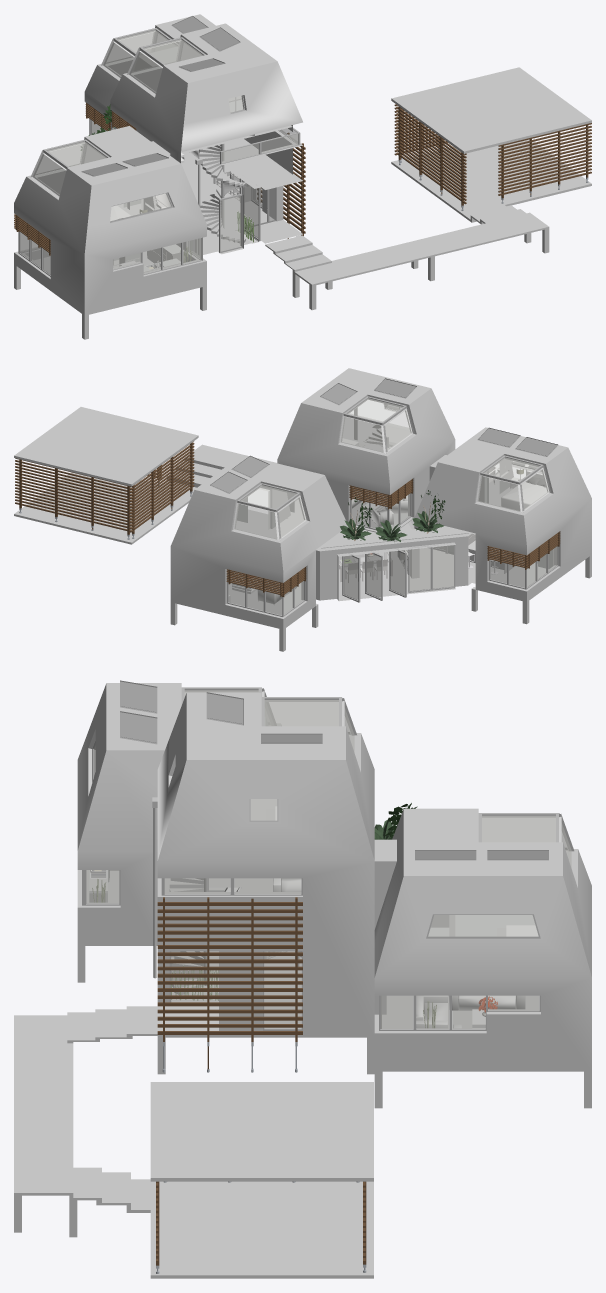
The model's file is Lunars Fancy House by Ryan “Lunar” Fowler-Hughes - 4BMcHXyZr-F.glb.
3 renders of one model, top to bottom at view 1: azimuth 30°, elevation 25°; view 2: azimuth 150°, elevation 25°; view 3: azimuth 270°, elevation 25°, orthographic. The views are drawn at different scales.
Visible parts, largest first — view 1: Mesh1721 Model, Mesh1709 Component_12_1 Model, Mesh1708 Component_11_3 Model, Mesh1425 Component_11_1 Model, Mesh134 Component_5_1 Model, Mesh1526 Component_5_3 Model, Mesh602 Component_5_2 Model, Mesh64 Group44 Model, Mesh1448 Component_9_1 Model, Mesh132 Spiral_Stair1 Component_7_1 Model, Mesh1428 Component_8_1 Model, Mesh133 Spiral_Stair2 Component_7_1 Model (+9 smaller); view 2: Mesh1721 Model, Mesh1709 Component_12_1 Model, Mesh1427 Component_11_2 Model, Mesh134 Component_5_1 Model, Mesh1526 Component_5_3 Model, Mesh602 Component_5_2 Model, Mesh1425 Component_11_1 Model, Mesh77 Group57 Model, Mesh21 Group15 Model, Mesh72 Group52 Model, Mesh927 King_size_bed1 Model, Mesh17 Group11 Model (+19 smaller); view 3: Mesh1721 Model, Mesh1709 Component_12_1 Model, Mesh1448 Component_9_1 Model, Mesh602 Component_5_2 Model, Mesh1526 Component_5_3 Model, Mesh1525 Component_8_2 Model, Mesh6 Group6 Model, Mesh66 Group46 Model, Mesh75 Group55 Model, Mesh3 Group3 Model, Mesh28 Group22 Model, Mesh68 Group48 Model (+6 smaller).
Part boxes in pixels (box(x1,y1,x2,y2)): Mesh1721 Model: box(14, 14, 591, 315); Mesh1709 Component_12_1 Model: box(391, 67, 591, 153); Mesh1708 Component_11_3 Model: box(498, 123, 591, 203); Mesh1425 Component_11_1 Model: box(396, 106, 466, 210); Mesh134 Component_5_1 Model: box(30, 139, 109, 196); Mesh1526 Component_5_3 Model: box(127, 37, 205, 93); Mesh602 Component_5_2 Model: box(101, 28, 178, 77); Mesh64 Group44 Model: box(219, 193, 242, 252); Mesh1448 Component_9_1 Model: box(257, 132, 305, 238); Mesh132 Spiral_Stair1 Component_7_1 Model: box(200, 182, 246, 243); Mesh1428 Component_8_1 Model: box(110, 192, 173, 222); Mesh133 Spiral_Stair2 Component_7_1 Model: box(199, 144, 245, 187); Mesh1721 Model: box(14, 368, 591, 629); Mesh1709 Component_12_1 Model: box(14, 407, 198, 486); Mesh1427 Component_11_2 Model: box(15, 458, 134, 539); Mesh134 Component_5_1 Model: box(476, 455, 551, 513); Mesh1526 Component_5_3 Model: box(339, 396, 414, 453); Mesh602 Component_5_2 Model: box(233, 483, 308, 540); Mesh1425 Component_11_1 Model: box(129, 441, 194, 538); Mesh77 Group57 Model: box(408, 545, 431, 592); Mesh21 Group15 Model: box(432, 543, 455, 590); Mesh72 Group52 Model: box(342, 553, 360, 602); Mesh927 King_size_bed1 Model: box(501, 471, 547, 510); Mesh17 Group11 Model: box(365, 551, 382, 600); Mesh1721 Model: box(14, 683, 591, 1278); Mesh1709 Component_12_1 Model: box(150, 1082, 373, 1181); Mesh1448 Component_9_1 Model: box(157, 897, 302, 1072); Mesh602 Component_5_2 Model: box(478, 813, 574, 867); Mesh1526 Component_5_3 Model: box(261, 697, 356, 752); Mesh1525 Component_8_2 Model: box(426, 914, 540, 938); Mesh6 Group6 Model: box(263, 951, 302, 1030); Mesh66 Group46 Model: box(169, 951, 218, 1002); Mesh75 Group55 Model: box(84, 870, 120, 905); Mesh3 Group3 Model: box(415, 995, 450, 1030); Mesh28 Group22 Model: box(379, 995, 414, 1030); Mesh68 Group48 Model: box(451, 995, 486, 1030).
Bounding box in the file's own units: 27.88 × 10.51 × 17.04.
